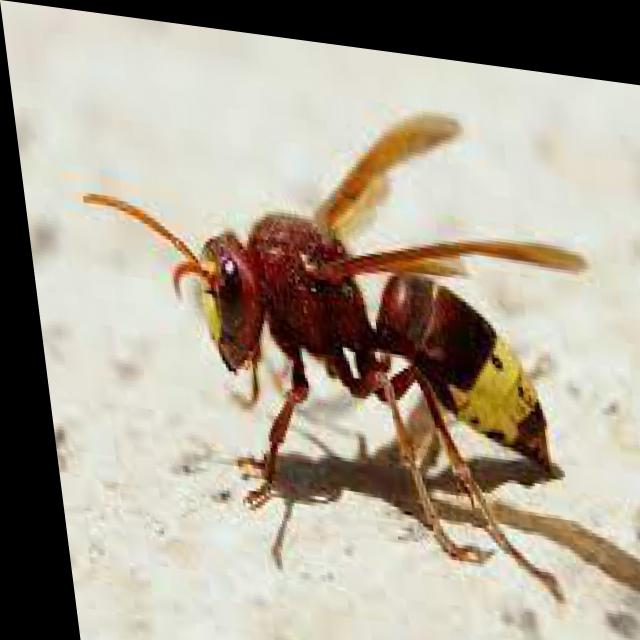Vespa Orientalis: (43, 39, 635, 627)
